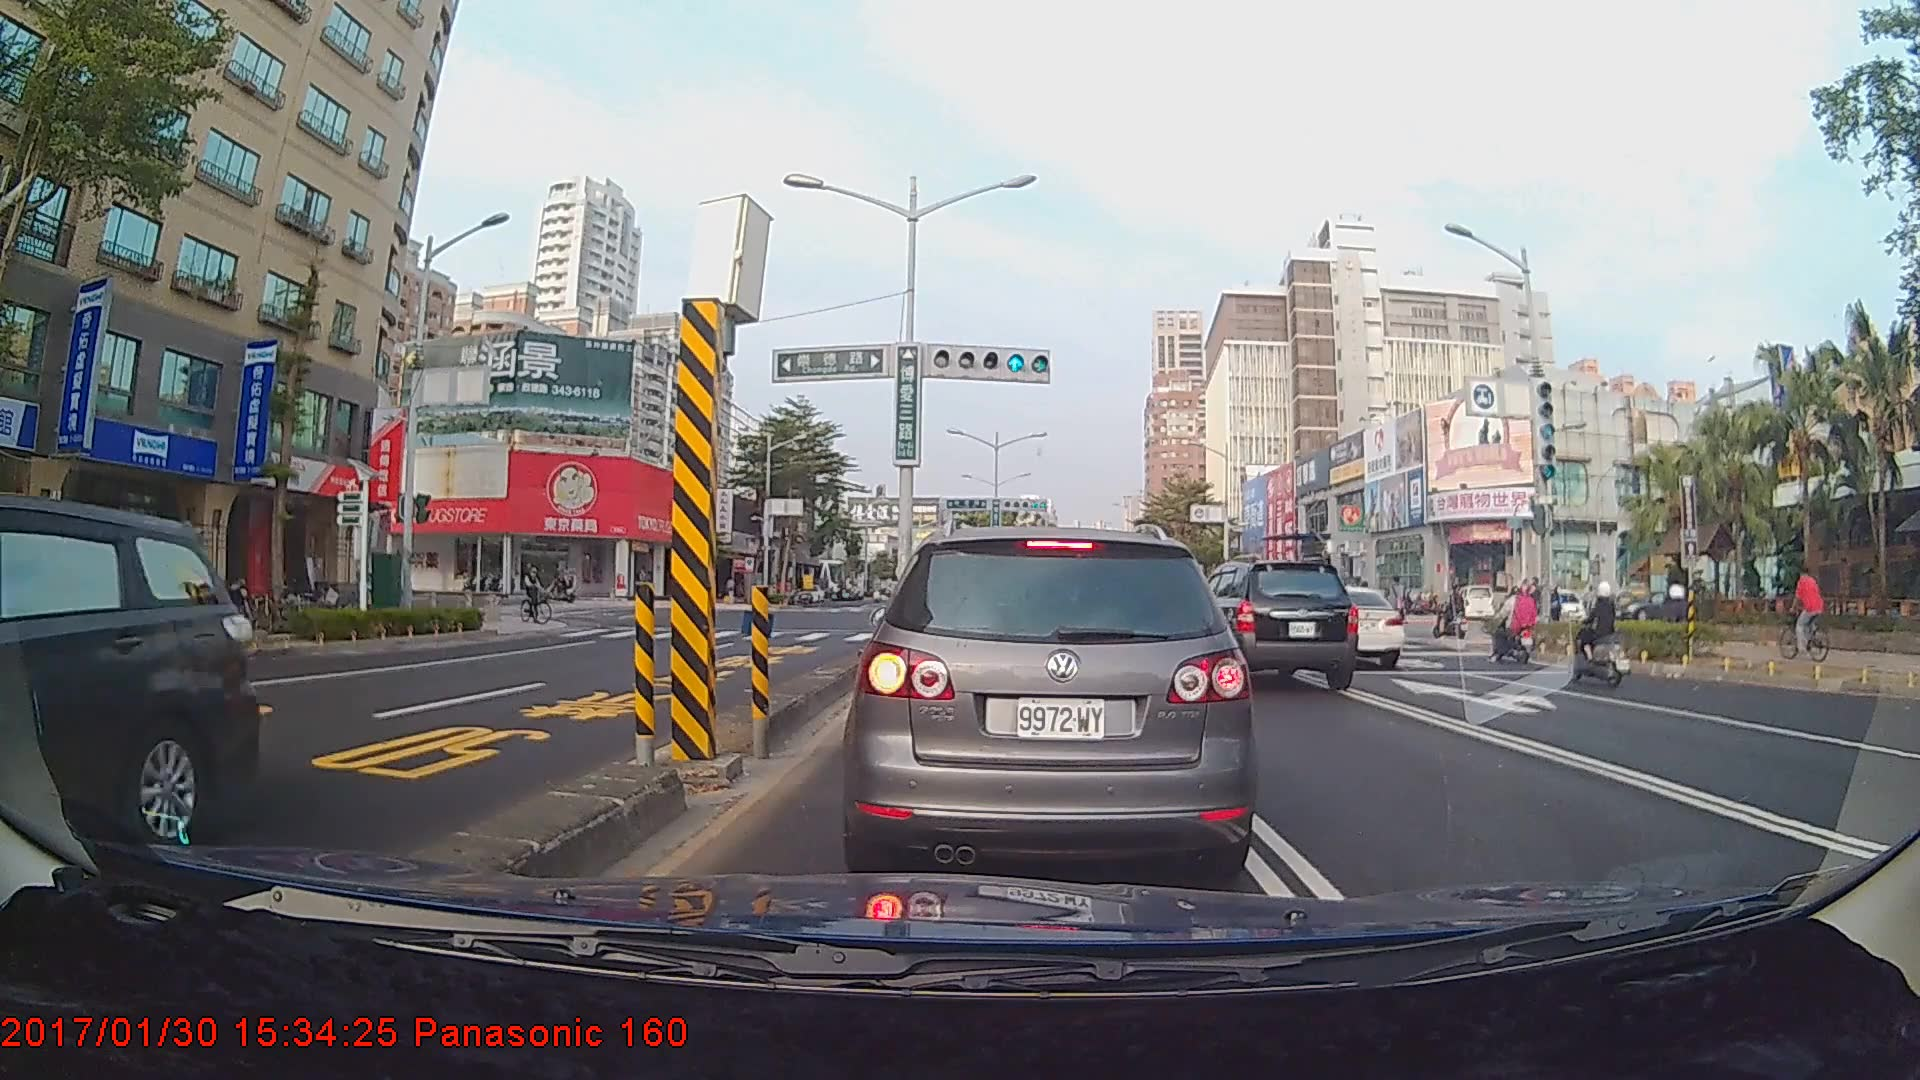rider: (1571, 577, 1630, 697), (1485, 582, 1548, 668), (1775, 567, 1827, 660), (1645, 578, 1699, 654), (518, 559, 561, 629), (1436, 582, 1473, 646), (536, 563, 581, 610)
vehicle: (851, 517, 1251, 880), (0, 487, 257, 951), (1166, 554, 1361, 691), (1279, 583, 1404, 667)
